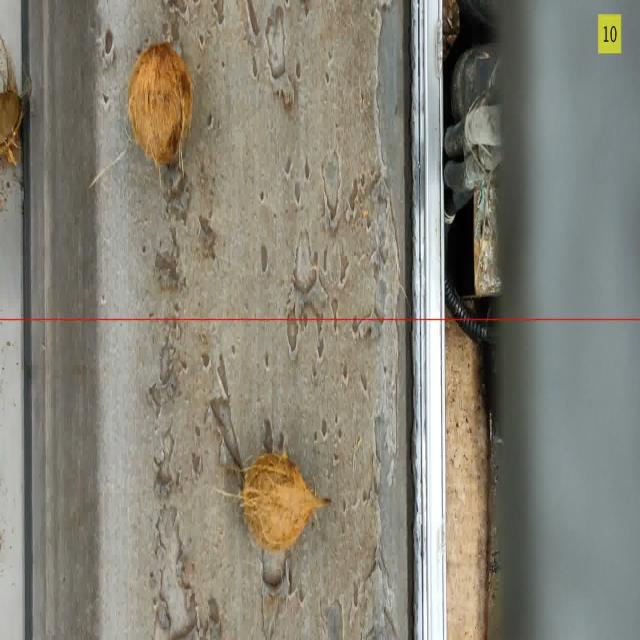Coconut-Conveyor-Belt: (242, 453, 330, 551), (128, 43, 192, 165), (0, 38, 23, 165)
